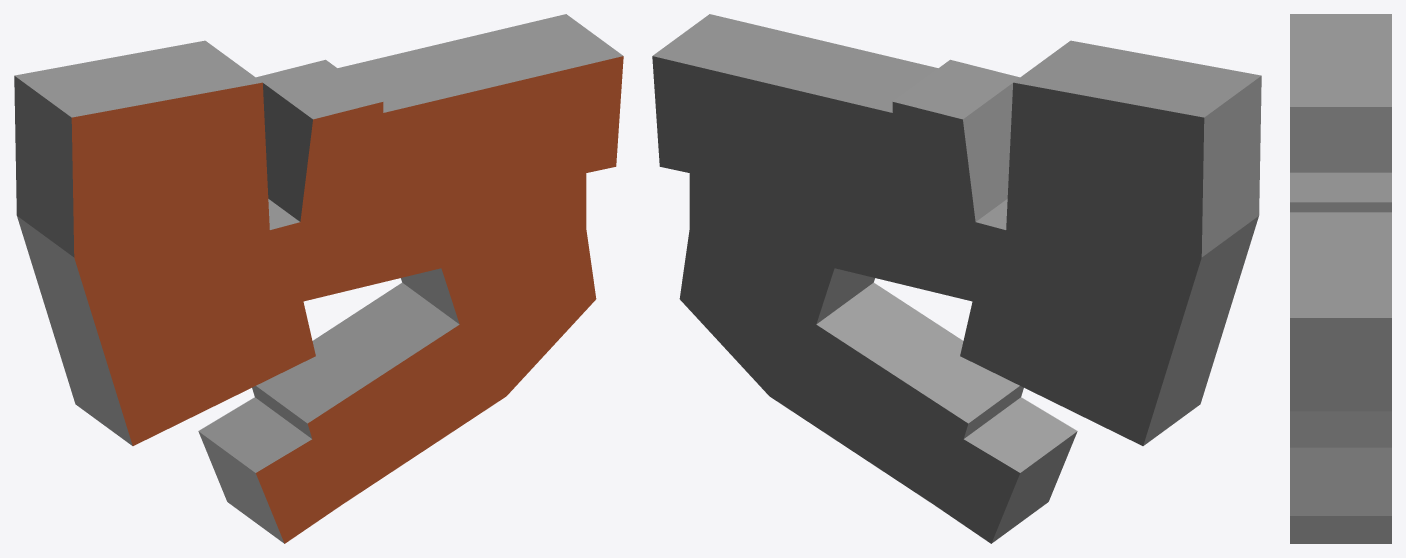
File: construction_5297_assumed_A_Casa_h6m.obj
3 renders of one model, left to right at view 1: azimuth 30°, elevation 25°; view 2: azimuth 150°, elevation 25°; view 3: azimuth 270°, elevation 25°, orthographic. The views are drawn at different scales.
Parts seen in each view (by area): view 1: construction_5297_assumed_A_Casa; view 2: construction_5297_assumed_A_Casa; view 3: construction_5297_assumed_A_Casa.
Boxes of the visible parts, x1,y1,x2,y2 form: construction_5297_assumed_A_Casa: (14,14,623,543); construction_5297_assumed_A_Casa: (652,14,1261,543); construction_5297_assumed_A_Casa: (1290,14,1391,543).
Size of the model in its own units: 33.29 by 27.57 by 6.
